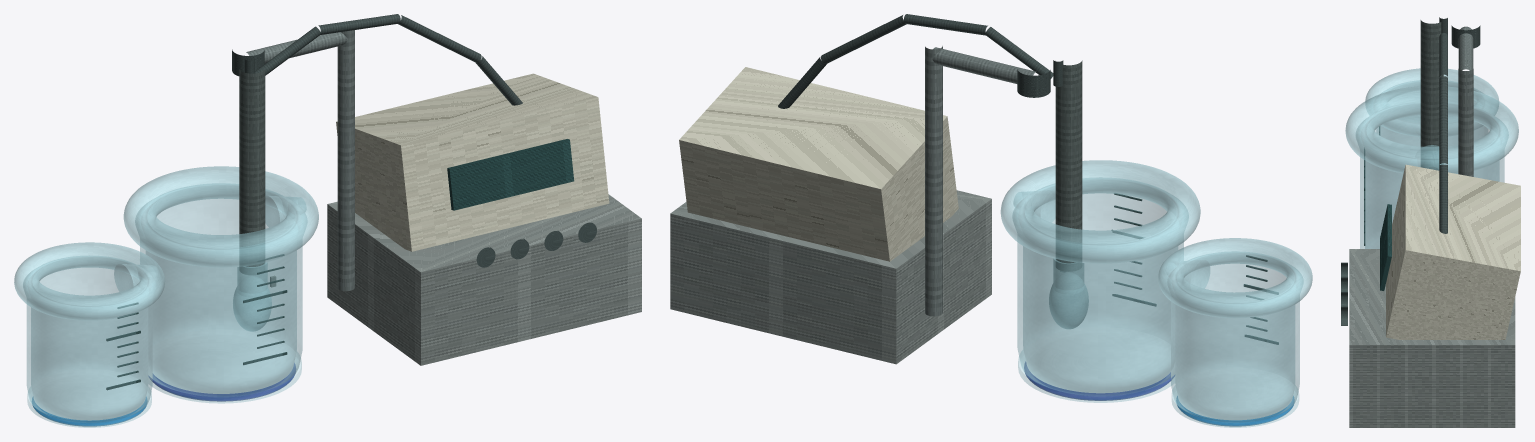
The model's file is alat-14.glb.
3 renders of one model, left to right at view 1: azimuth 30°, elevation 25°; view 2: azimuth 150°, elevation 25°; view 3: azimuth 270°, elevation 25°, orthographic. The views are drawn at different scales.
Visible parts, largest first — view 1: box-30, beaker-0, box-31, beaker-15, torus-2, torus-17, display-32, phProbe-45, cylinder-37, cylinder-1, cylinder-16, phProbe-47 (+10 smaller); view 2: box-31, box-30, beaker-0, beaker-15, torus-2, torus-17, phProbe-45, cylinder-37, cylinder-1, phProbeArm-38, cylinder-16, phProbe-47 (+10 smaller); view 3: box-31, box-30, beaker-0, torus-2, phProbe-45, torus-17, cylinder-37, beaker-15, display-32, cylinder-41, cylinder-40, phProbeArm-38 (+3 smaller).
Boxes of the visible parts, x1,y1,x2,y2 form: box-30: [327, 194, 641, 365]; beaker-0: [135, 183, 307, 396]; box-31: [336, 73, 609, 251]; beaker-15: [23, 255, 155, 422]; torus-2: [123, 166, 318, 267]; torus-17: [14, 242, 165, 320]; display-32: [447, 139, 574, 210]; phProbe-45: [239, 69, 265, 274]; cylinder-37: [337, 30, 354, 291]; cylinder-1: [149, 352, 301, 403]; cylinder-16: [27, 387, 151, 427]; phProbe-47: [233, 286, 271, 331]; box-31: [679, 67, 958, 261]; box-30: [670, 190, 991, 364]; beaker-0: [1012, 177, 1188, 395]; beaker-15: [1167, 251, 1303, 422]; torus-2: [1000, 160, 1200, 263]; torus-17: [1158, 238, 1312, 318]; phProbe-45: [1055, 60, 1082, 271]; cylinder-37: [925, 46, 942, 316]; cylinder-1: [1018, 350, 1174, 402]; phProbeArm-38: [932, 47, 1036, 83]; cylinder-16: [1172, 386, 1298, 427]; phProbe-47: [1049, 283, 1088, 329]; box-31: [1386, 164, 1520, 339]; box-30: [1349, 249, 1515, 427]; beaker-0: [1356, 101, 1508, 248]; torus-2: [1345, 86, 1518, 173]; phProbe-45: [1420, 20, 1443, 170]; torus-17: [1365, 68, 1498, 136]; cylinder-37: [1458, 69, 1473, 176]; beaker-15: [1376, 80, 1487, 145]; display-32: [1380, 204, 1391, 290]; cylinder-41: [1439, 76, 1447, 164]; cylinder-40: [1439, 164, 1447, 233]; phProbeArm-38: [1458, 26, 1473, 70].
Size of the model in its own units: 6.07 by 3.24 by 1.86.
49 materials, 49 textured.
